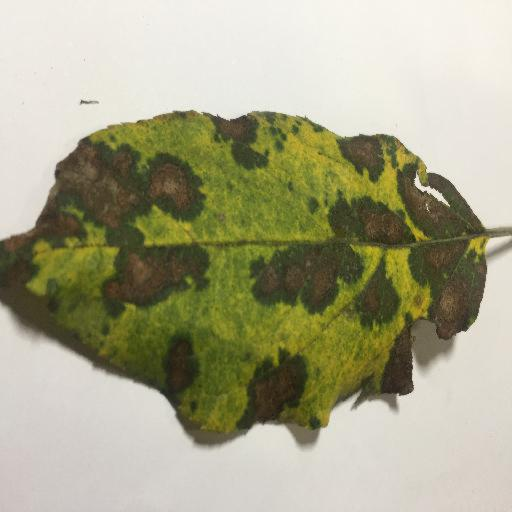Brown_Spot: (1, 139, 229, 244), (331, 172, 475, 238), (108, 243, 208, 308), (254, 240, 344, 301), (417, 240, 476, 330), (244, 358, 296, 418), (354, 266, 399, 331), (338, 139, 385, 185), (170, 339, 196, 406), (387, 316, 406, 396), (216, 110, 250, 152)
